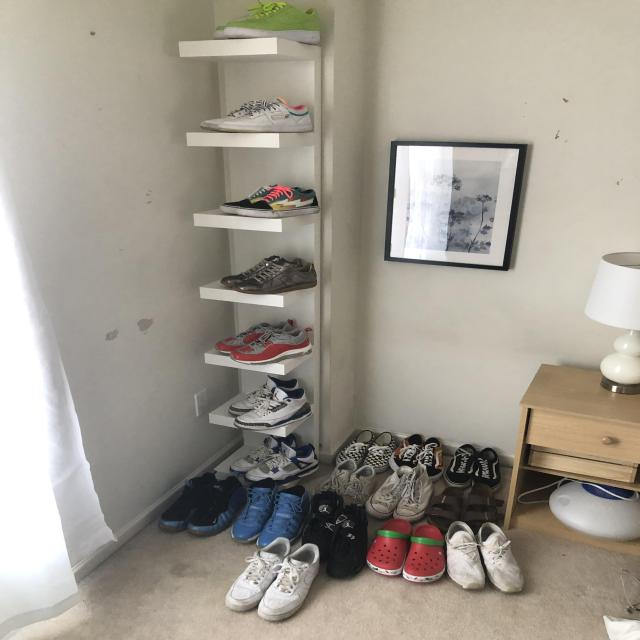shoe: (253, 540, 326, 624), (223, 534, 292, 618), (212, 0, 332, 48), (184, 465, 245, 540), (216, 96, 322, 137), (156, 468, 218, 536), (253, 483, 314, 551), (243, 440, 324, 487), (232, 386, 312, 433), (229, 327, 317, 367), (230, 474, 280, 544), (231, 258, 320, 296), (235, 184, 324, 221), (331, 427, 396, 475), (364, 464, 415, 522), (390, 465, 437, 524), (441, 442, 478, 491), (470, 444, 506, 494)
